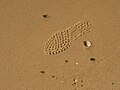human_footprint: (44, 24, 88, 56)
